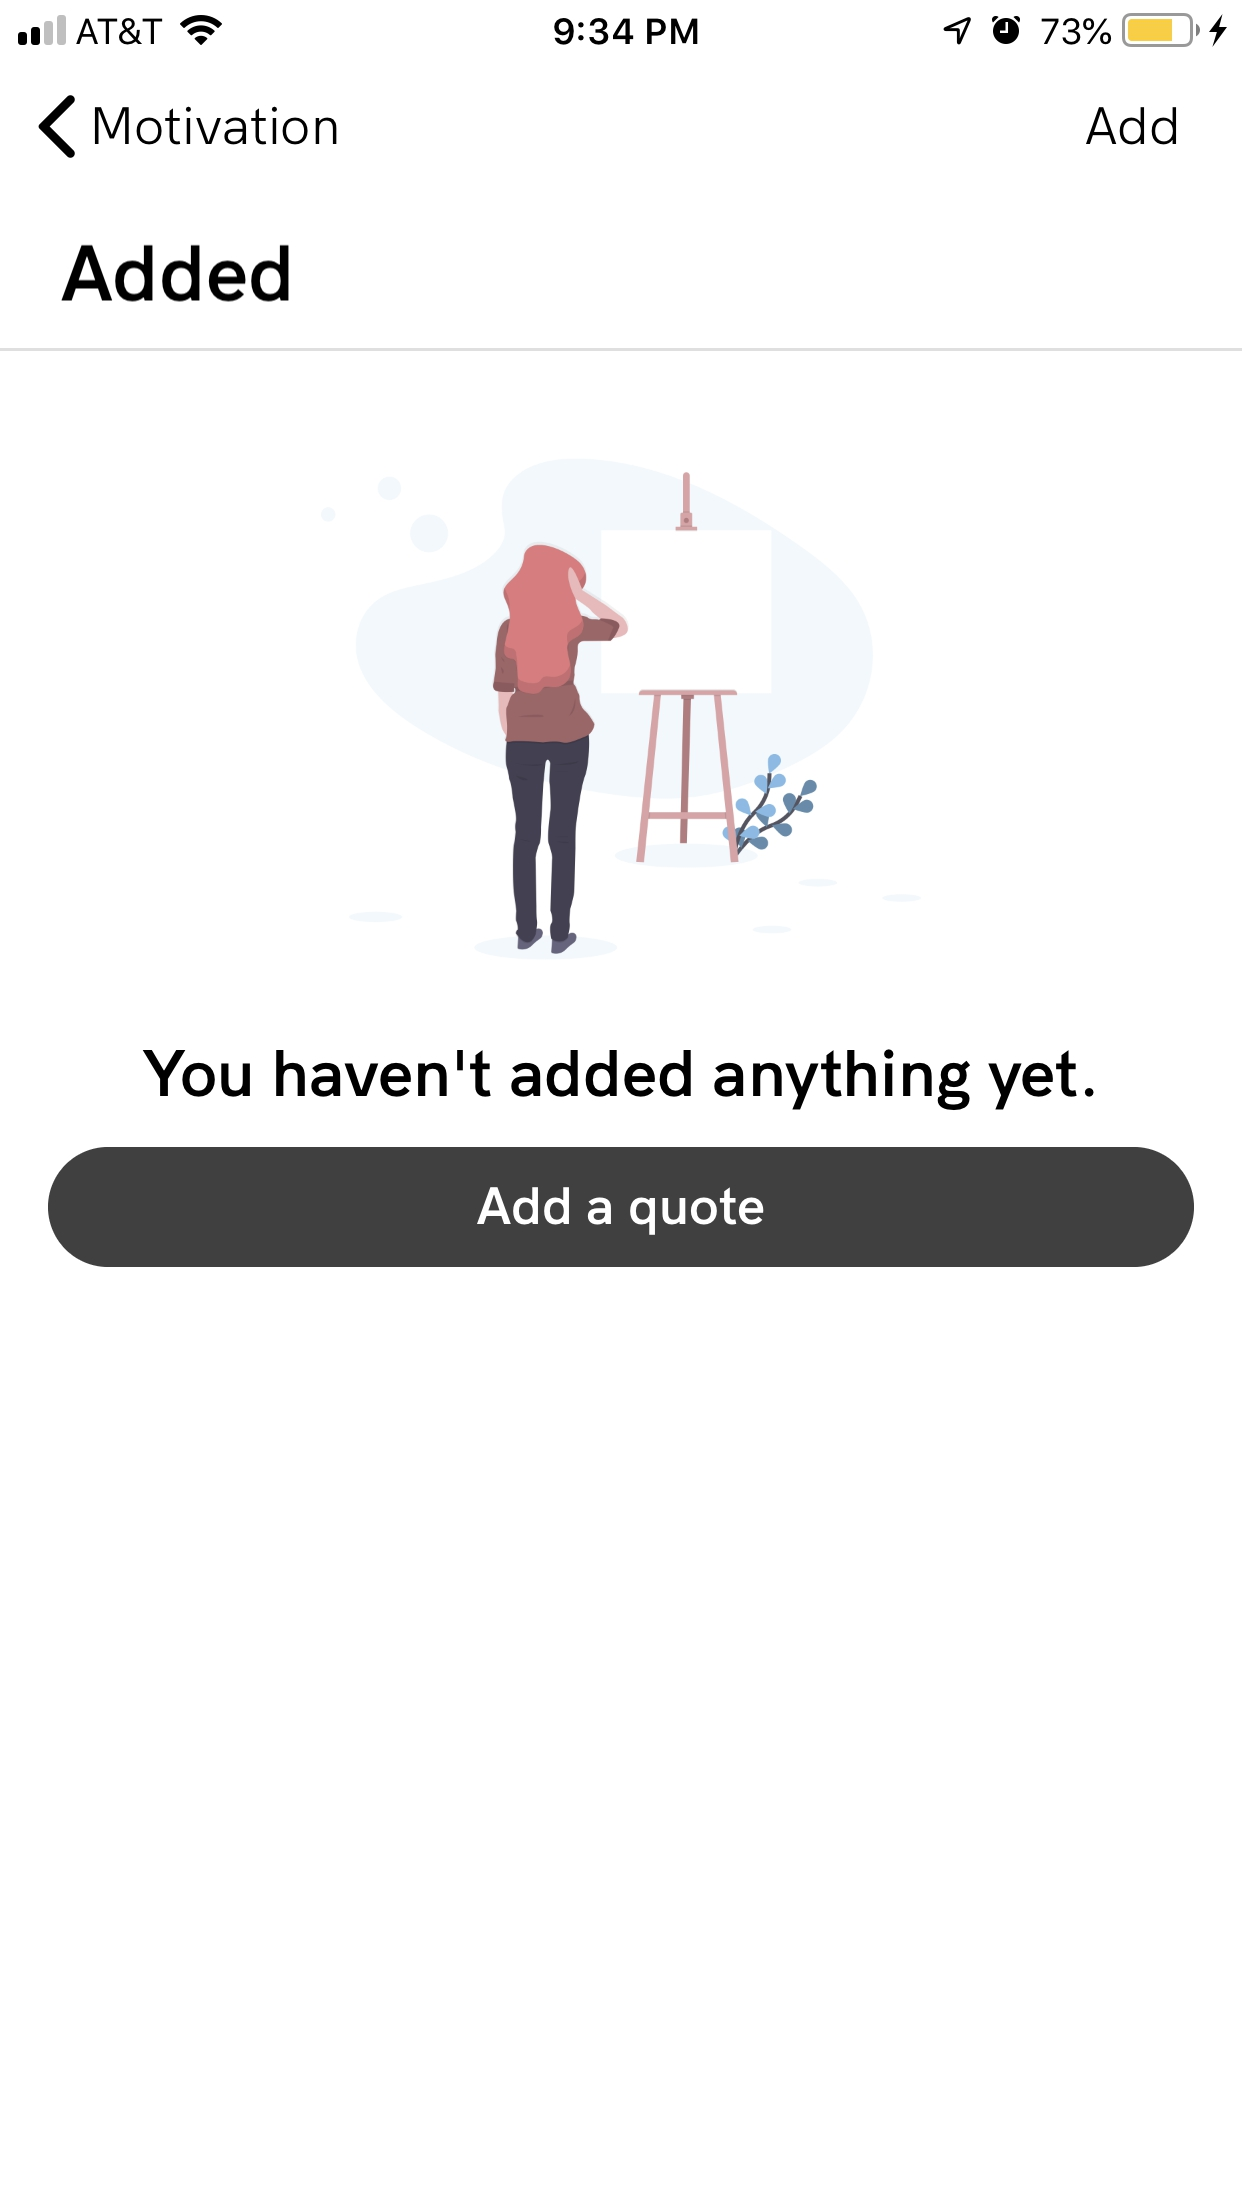Icon: (38, 96, 77, 161)
Image: (320, 458, 922, 961)
Text: (143, 1049, 1095, 1112), (58, 237, 290, 303), (96, 106, 338, 146), (1084, 108, 1177, 147)
TextButton: (49, 1146, 1197, 1269)
UpperTaskBar: (2, 2, 1242, 49)
